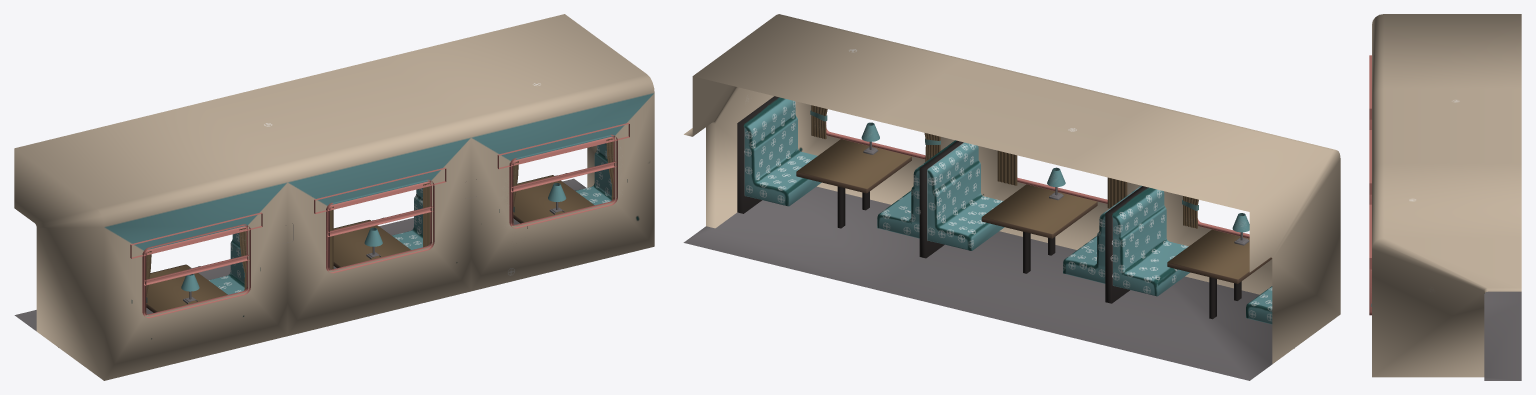
The model's file is Wagon_01.glb.
The picture shows the model from 3 angles, left to right: view 1: azimuth 30°, elevation 25°; view 2: azimuth 150°, elevation 25°; view 3: azimuth 270°, elevation 25°; orthographic projection. The views are drawn at different scales.
Parts seen in each view (by area): view 1: Wagon_01; view 2: Wagon_01; view 3: Wagon_01.
Boxes of the visible parts, box(x1,y1,x2,y2) form: Wagon_01: box(14, 14, 654, 380); Wagon_01: box(683, 14, 1340, 380); Wagon_01: box(1369, 14, 1521, 380).
Size of the model in its own units: 6.1 by 1.74 by 1.72.
1 material, 1 textured.
